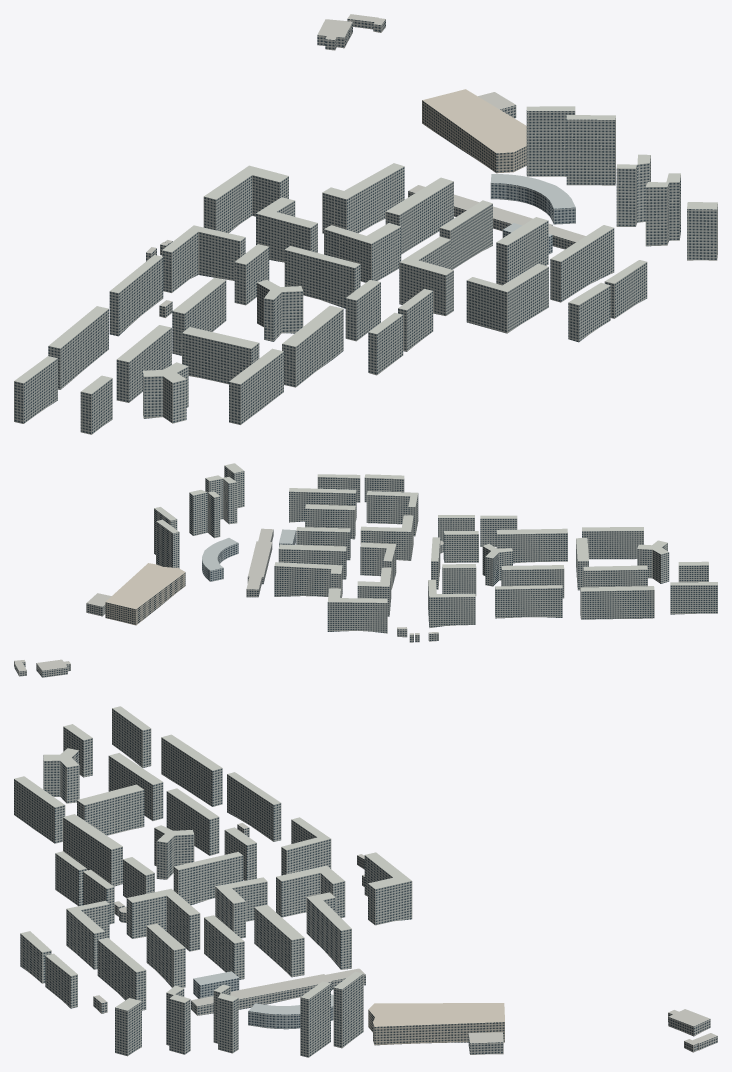
File: city_7_2.glb
The picture shows the model from 3 angles, top to bottom: view 1: azimuth 30°, elevation 25°; view 2: azimuth 150°, elevation 25°; view 3: azimuth 270°, elevation 25°; orthographic projection. The views are drawn at different scales.
Size of the model in its own units: 813 by 75.32 by 787.
Materials: 4 (4 with a texture image).
